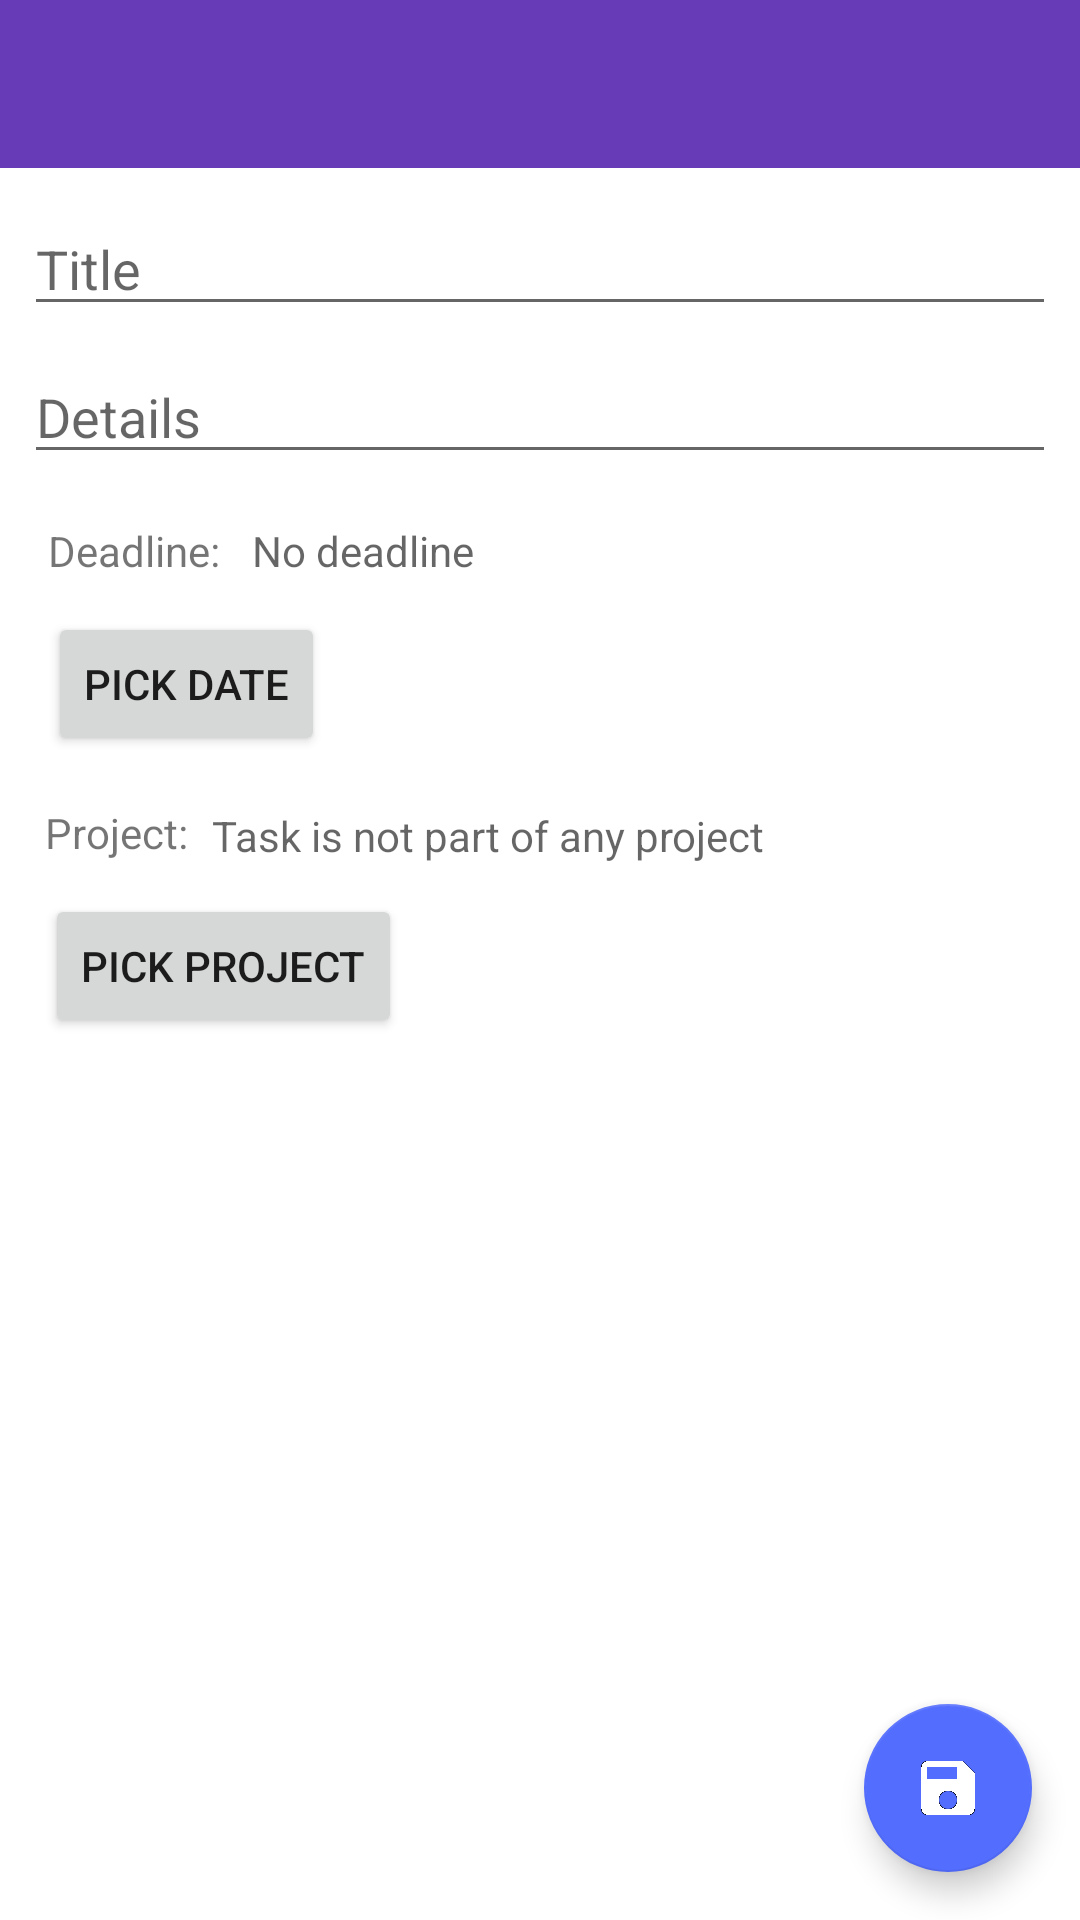

Icons on this 1080*1920 Android screen, each with its box as (x1, y1, x2, y2):
Save Task: (864, 1704, 1032, 1872)
